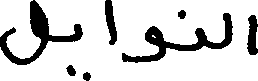ا: (103, 0, 116, 45), (247, 13, 256, 55)
ل: (0, 0, 48, 66), (223, 11, 231, 47)
ن: (177, 9, 205, 51)
و: (122, 24, 165, 63)
ي: (62, 22, 94, 80)
